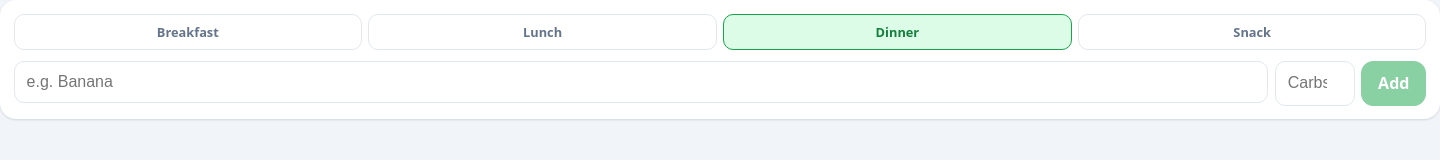
Test case: AddEntryForm › keeps Add disabled until a name and carbs are entered
Expected: the button "Add" is disabled, 1361,61 -> 1426,106
Type "Banana" into the dropdown named "Food name" at [641, 82], box 14,61 -> 1268,103
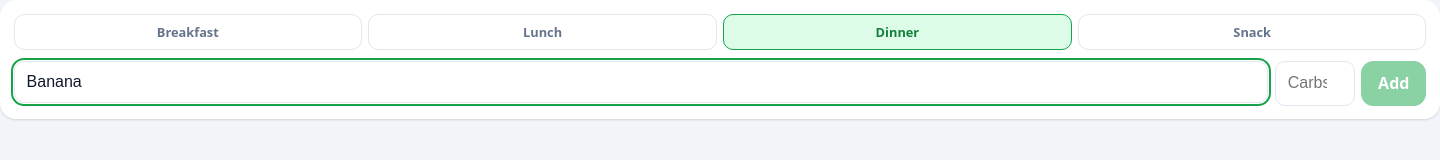
Expected: the button "Add" is disabled, 1361,61 -> 1426,106
Type "27" into the number field named "Carbs in grams" at [1315, 83], box 1275,61 -> 1355,106
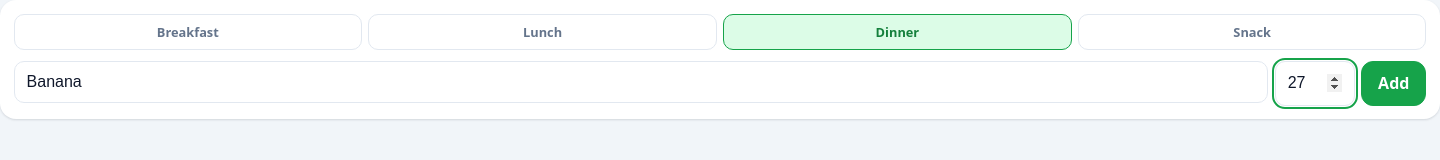
Now the button "Add" is enabled, box 1361,61 -> 1426,106
